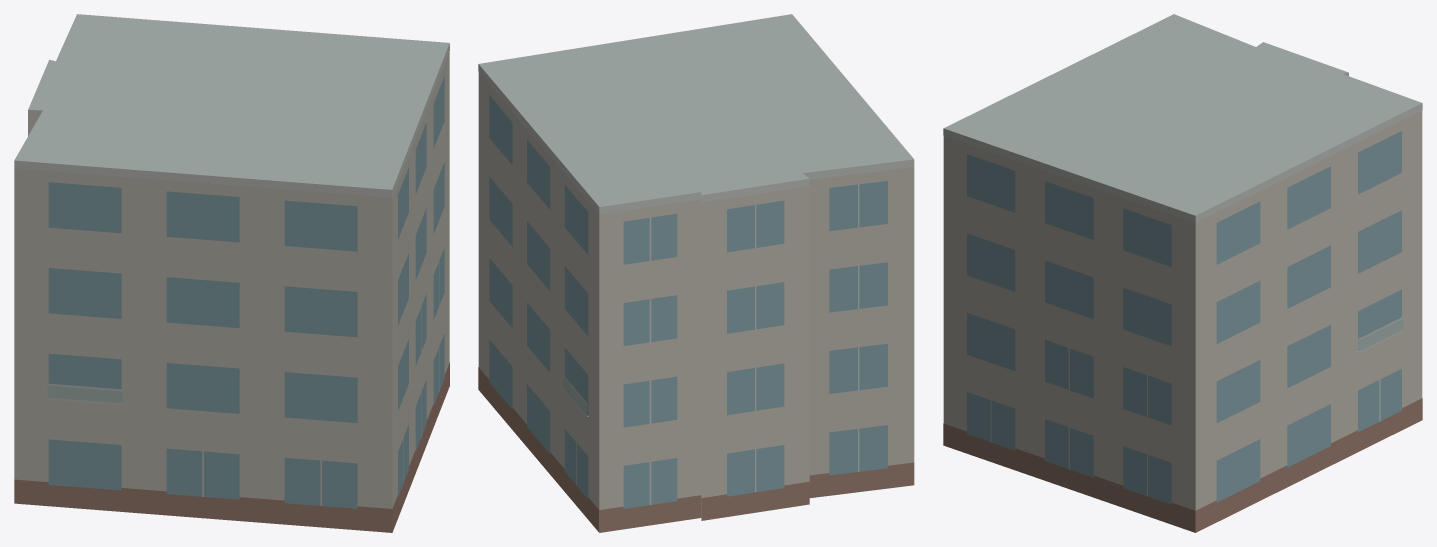
Rendered from survey-upis-32938261.glb.
3 views of the same model, side by side, from view 1: azimuth 30°, elevation 25°; view 2: azimuth 150°, elevation 25°; view 3: azimuth 270°, elevation 25° (orthographic). The views are drawn at different scales.
Visible parts, largest first — view 1: survey-upis-32938261.tmp; view 2: survey-upis-32938261.tmp; view 3: survey-upis-32938261.tmp.
Boxes of the visible parts, box(x1,y1,x2,y2) form: survey-upis-32938261.tmp: box(14, 14, 449, 532); survey-upis-32938261.tmp: box(478, 14, 914, 532); survey-upis-32938261.tmp: box(943, 14, 1422, 532).
Bounding box in the file's own units: 14.75 × 10.8 × 14.79.
